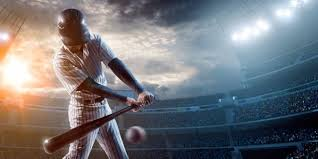baseball bat: (43, 98, 151, 155)
